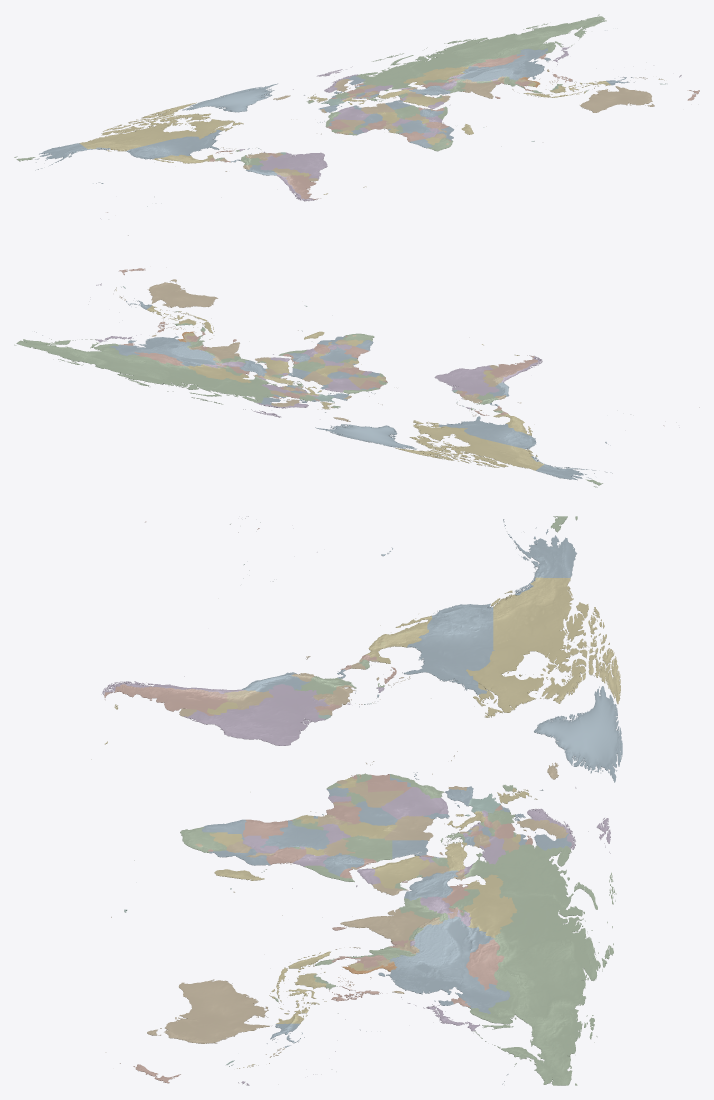
File: world.glb
3 views of the same model, one above another, from view 1: azimuth 30°, elevation 25°; view 2: azimuth 150°, elevation 25°; view 3: azimuth 270°, elevation 25° (orthographic). The views are drawn at different scales.
Visible parts, largest first — view 1: 075_RUS, 202_CAN, 016_USA, 195_CHN, 210_BRA, 181_GRL, 225_AUS, 133_KAZ, 144_IND, 230_ARG, 143_IDN; view 2: 075_RUS, 202_CAN, 016_USA, 195_CHN, 210_BRA, 225_AUS, 181_GRL, 133_KAZ, 144_IND, 230_ARG; view 3: 075_RUS, 202_CAN, 016_USA, 195_CHN, 210_BRA, 225_AUS, 181_GRL, 133_KAZ, 230_ARG, 144_IND, 234_DZA, 143_IDN (+7 smaller).
Boxes of the visible parts, x1,y1,x2,y2 form: 075_RUS: [14, 14, 606, 161]; 202_CAN: [79, 102, 243, 151]; 016_USA: [35, 30, 605, 183]; 195_CHN: [457, 48, 547, 81]; 210_BRA: [259, 152, 327, 179]; 181_GRL: [182, 83, 277, 112]; 225_AUS: [580, 86, 654, 112]; 133_KAZ: [403, 66, 468, 85]; 144_IND: [461, 76, 513, 98]; 230_ARG: [285, 174, 320, 199]; 143_IDN: [523, 81, 610, 97]; 075_RUS: [14, 339, 602, 487]; 202_CAN: [395, 420, 544, 470]; 016_USA: [36, 332, 612, 480]; 195_CHN: [109, 336, 216, 366]; 210_BRA: [434, 365, 499, 395]; 225_AUS: [147, 279, 217, 307]; 181_GRL: [315, 424, 416, 449]; 133_KAZ: [185, 364, 251, 382]; 144_IND: [188, 335, 239, 361]; 230_ARG: [484, 355, 538, 377]; 075_RUS: [464, 516, 616, 1085]; 202_CAN: [466, 577, 620, 717]; 016_USA: [381, 519, 576, 1084]; 195_CHN: [378, 916, 510, 1013]; 210_BRA: [184, 684, 329, 745]; 225_AUS: [105, 979, 269, 1052]; 181_GRL: [534, 686, 622, 782]; 133_KAZ: [462, 874, 517, 938]; 230_ARG: [104, 684, 228, 715]; 144_IND: [335, 908, 442, 953]; 234_DZA: [381, 787, 448, 819]; 143_IDN: [269, 951, 330, 1023].
Size of the model in its own units: 4008 by 4.26 by 1582.
